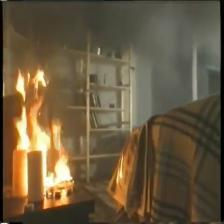fire: (9, 76, 65, 203)
smoke: (15, 5, 208, 45)
